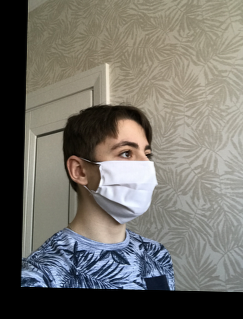with_mask: (94, 132, 158, 228)
